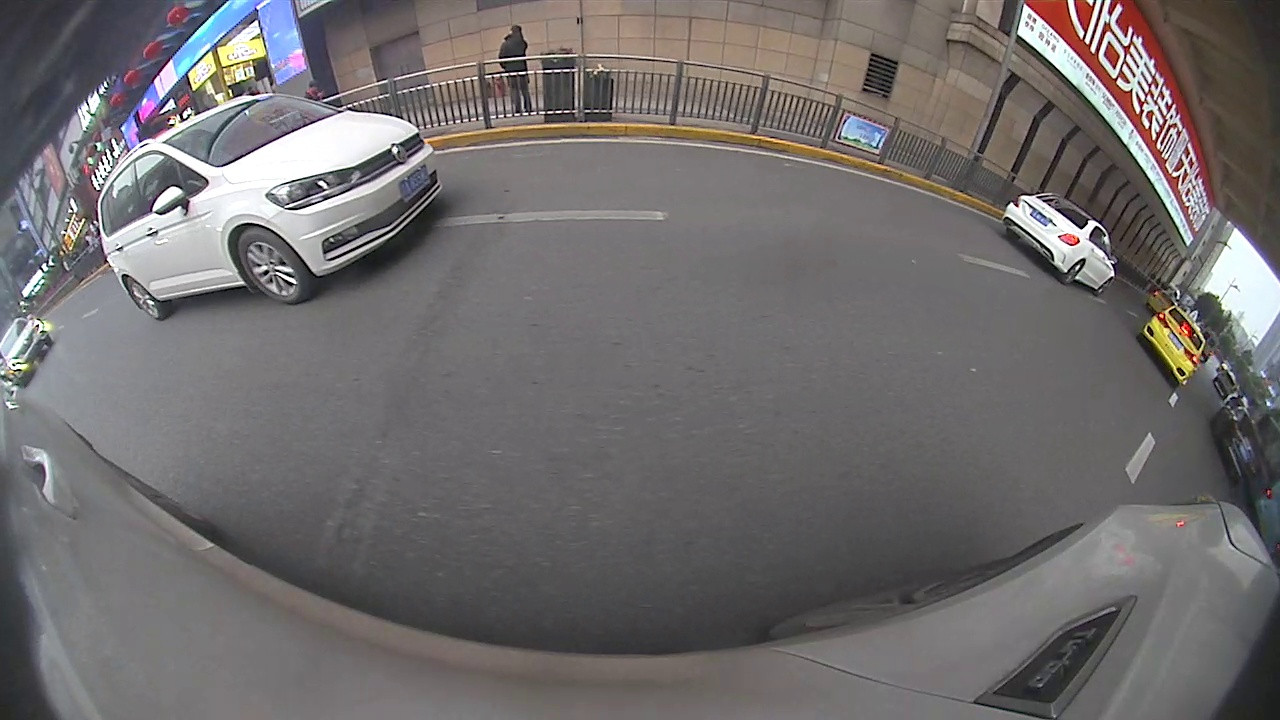car: (96, 92, 444, 323), (999, 193, 1118, 297), (1138, 304, 1208, 387), (1212, 401, 1262, 486), (1, 317, 53, 377)
front: (230, 227, 308, 306), (1095, 279, 1113, 297)
person: (496, 22, 535, 116)
rear: (125, 276, 163, 323), (1062, 259, 1086, 287)
